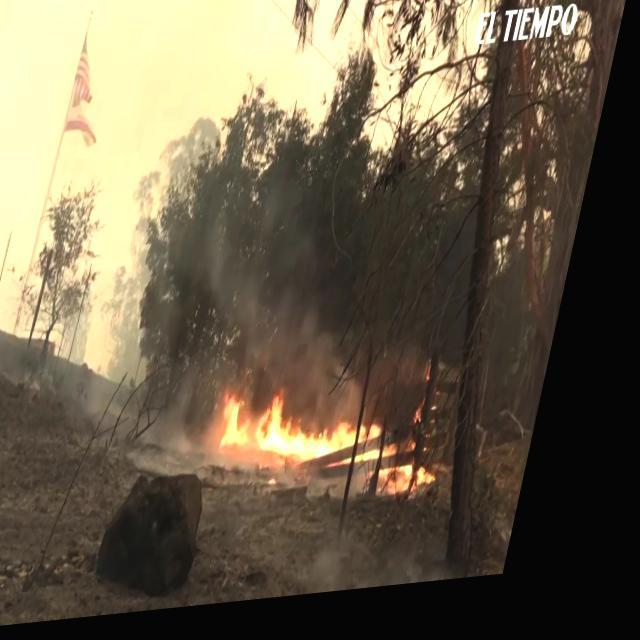Fire: (228, 384, 410, 472), (398, 466, 462, 506)
